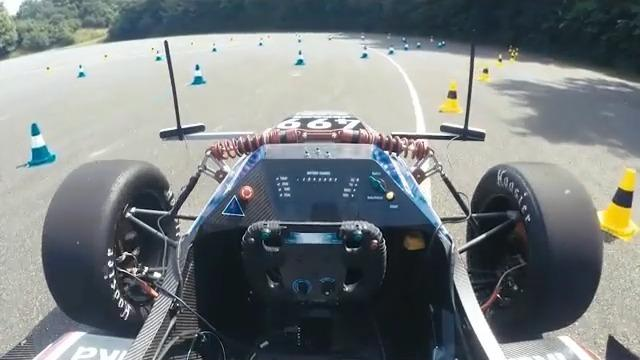blue_cone: (28, 123, 58, 168), (192, 64, 206, 86), (294, 49, 307, 66), (360, 46, 370, 59), (77, 64, 86, 78), (154, 50, 163, 62)
yellow_cone: (589, 167, 640, 240), (437, 80, 463, 113), (476, 63, 493, 83)
